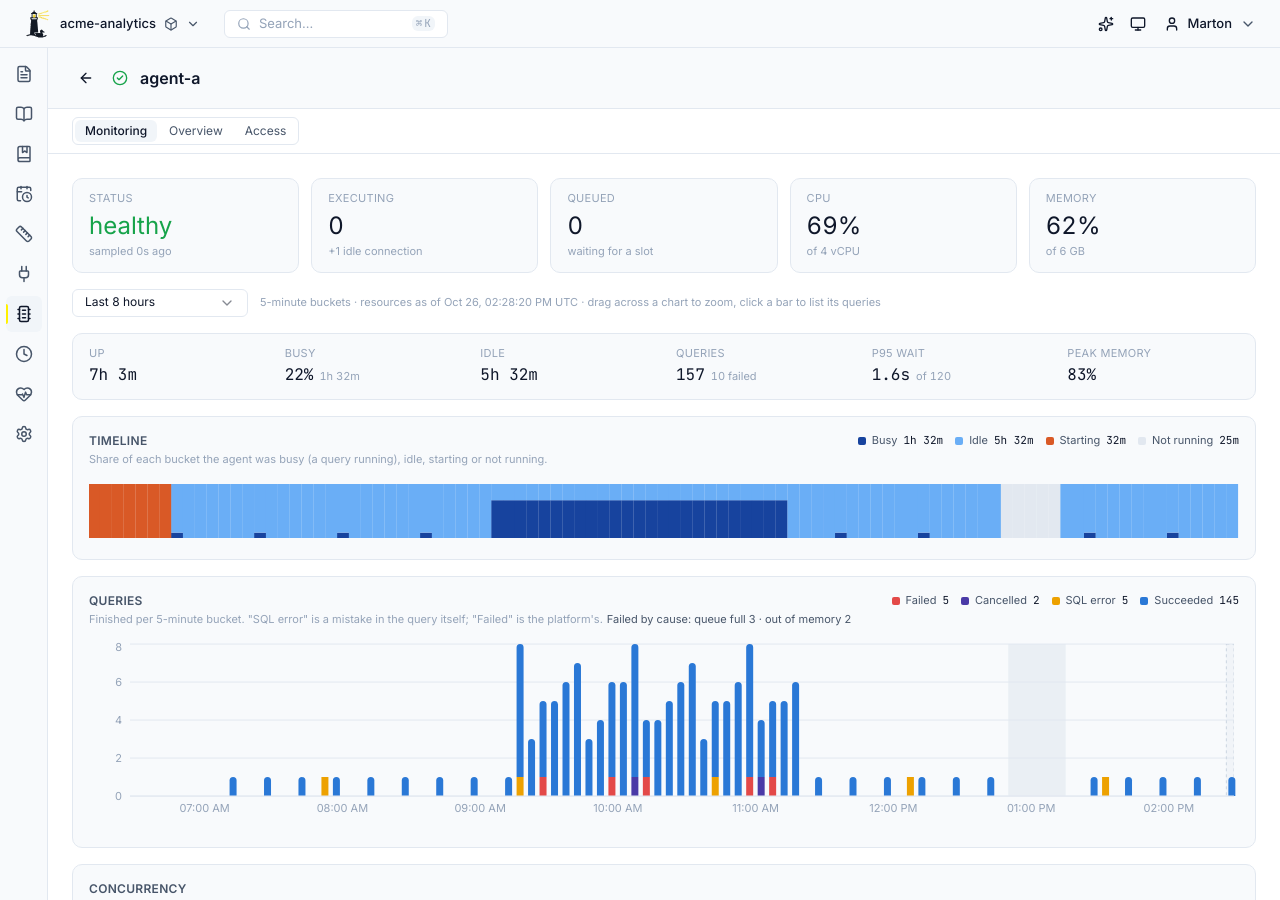
Scenario: AgentDetailPage › overview tab › explains each capability from the ⓘ beside it
Click the tab "Overview": (196, 131) x1=159 y1=120 x2=233 y2=142
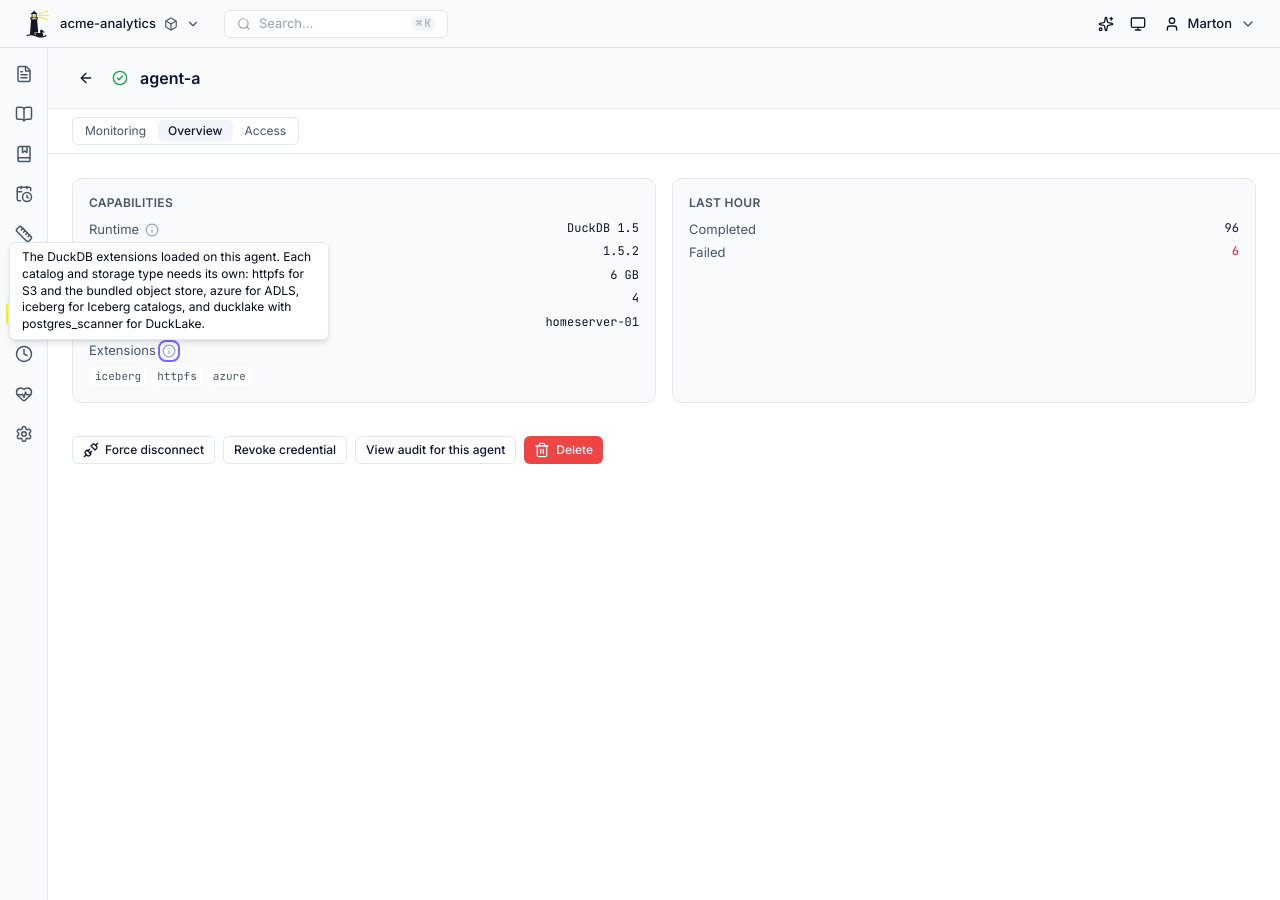
Expected: the button named "What is Extensions?" is shown, x1=162 y1=344 x2=176 y2=358
Expected: the tooltip "httpfs for S3 and the bundled object store" is shown, x1=22 y1=249 x2=311 y2=331
